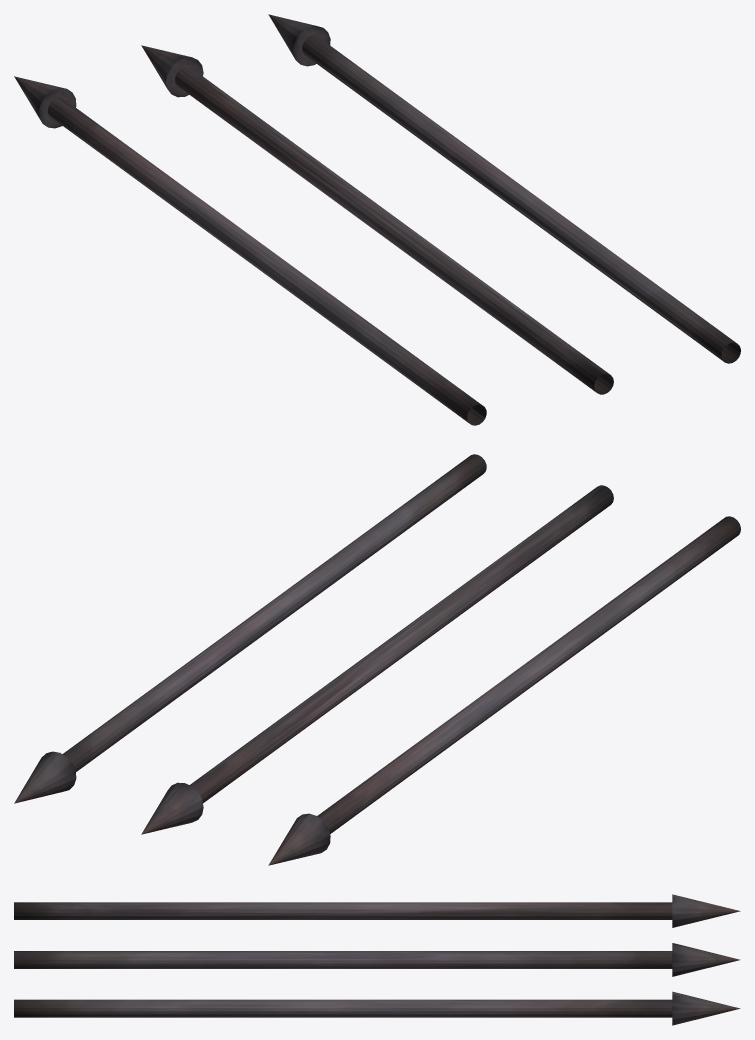
Rendered from gate_spikes.dae.
The picture shows the model from 3 angles, top to bottom: view 1: azimuth 30°, elevation 25°; view 2: azimuth 150°, elevation 25°; view 3: azimuth 270°, elevation 25°; orthographic projection. The views are drawn at different scales.
Visible parts, largest first — view 1: Cylinder_011, Cylinder_008, Cylinder_006; view 2: Cylinder_011, Cylinder_008, Cylinder_006; view 3: Cylinder_008, Cylinder_011, Cylinder_006.
Boxes of the visible parts, left/top/right/bottom form: Cylinder_011: left=141, top=45, right=613, bottom=394; Cylinder_008: left=268, top=14, right=740, bottom=363; Cylinder_006: left=14, top=76, right=486, bottom=425; Cylinder_011: left=141, top=485, right=613, bottom=834; Cylinder_008: left=14, top=454, right=486, bottom=803; Cylinder_006: left=268, top=516, right=740, bottom=865; Cylinder_008: left=14, top=991, right=740, bottom=1025; Cylinder_011: left=14, top=943, right=740, bottom=976; Cylinder_006: left=14, top=894, right=740, bottom=927.
Size of the model in its own units: 1.53 by 4.2 by 0.1978.
Materials: 1 (1 with a texture image).
